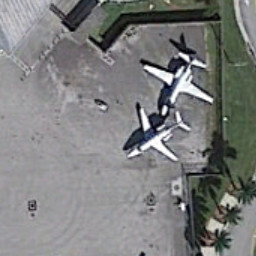Airplane: (140, 42, 219, 114), (125, 101, 194, 169)
